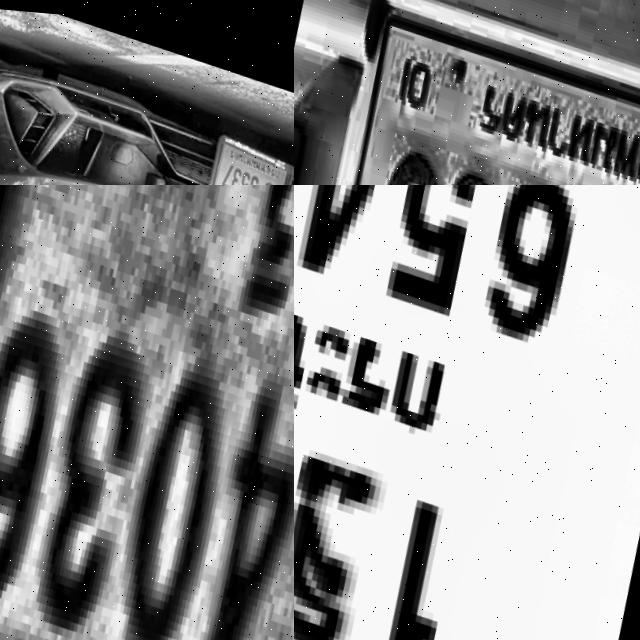license-plate: (294, 185, 640, 640), (0, 185, 294, 640), (294, 4, 640, 185), (199, 119, 294, 185)
